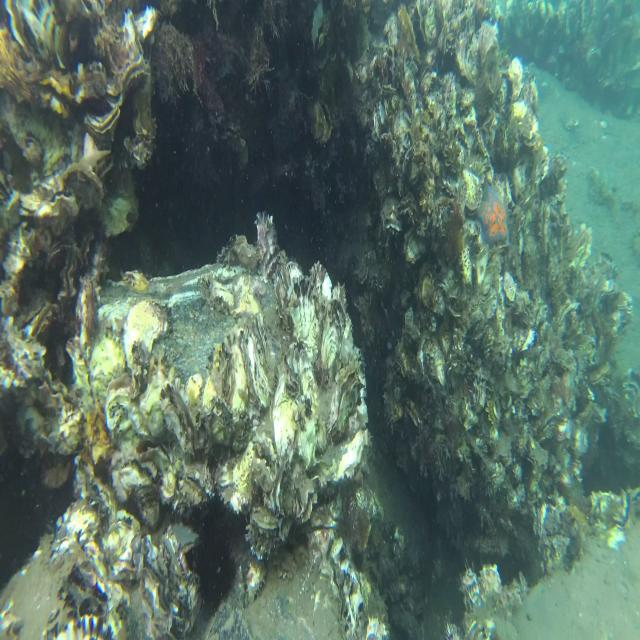echinus: (193, 531, 238, 624)
starfish: (476, 178, 511, 251)
